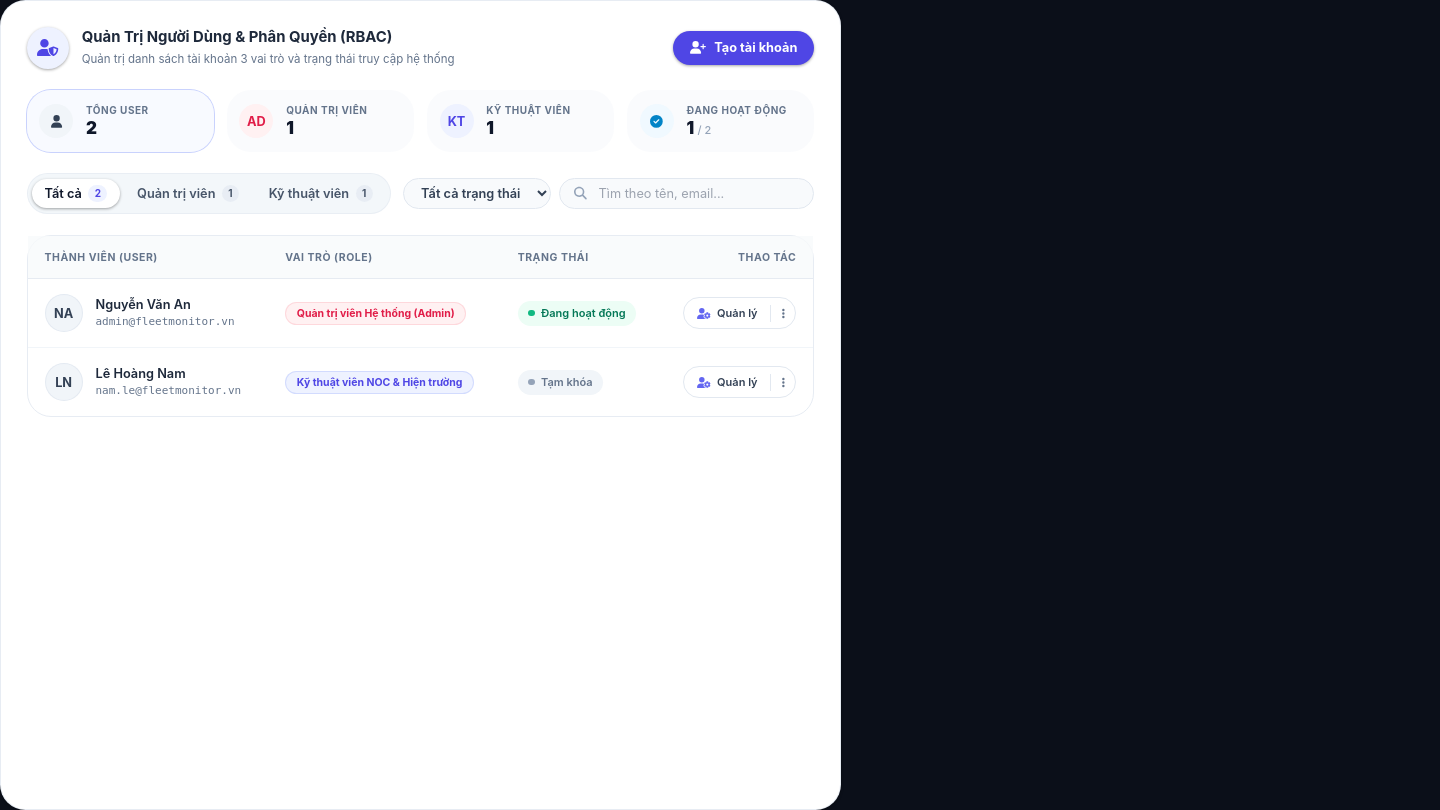
it: UserRbacManagerCard — Simplified RBAC Layout, Split Actions & Modals › opens UserManageModal via Quản lý with 2 tabs and no Refresh Token notice card
What coordinates should you click on to do the following:
click the button "Quản lý" in the row of "Nguyễn Văn An"
I would click on:
 (727, 313)
Its box is [684,298,770,328].
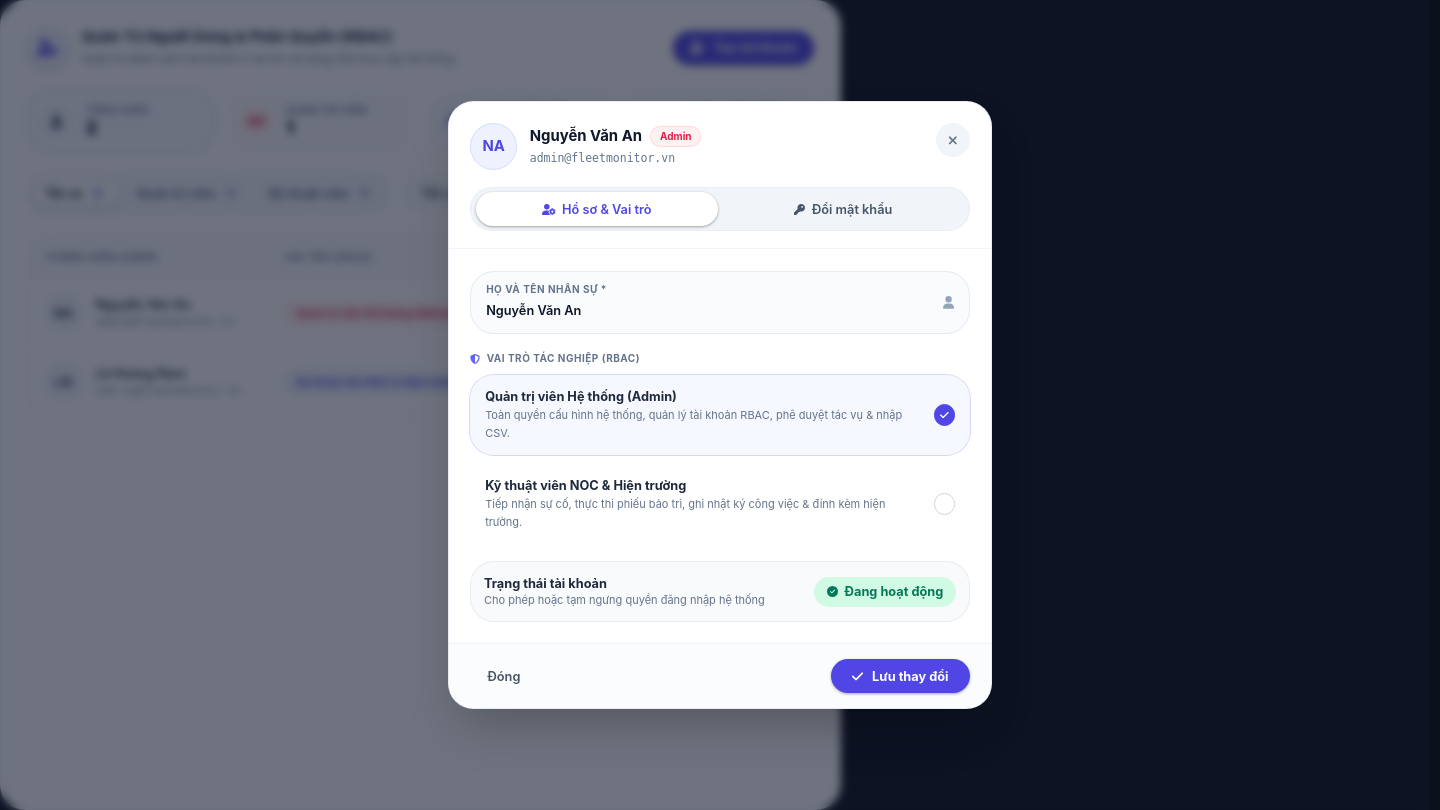
Check: the text "Hồ sơ & Vai trò" is shown, box [562,201,652,218]
Check: the text "Đổi mật khẩu" is shown, box [812,201,892,218]
What coordinates should you click on to do the following:
click the button "Đổi mật khẩu"
I would click on:
 (843, 209)
Its box is [722,192,964,226].
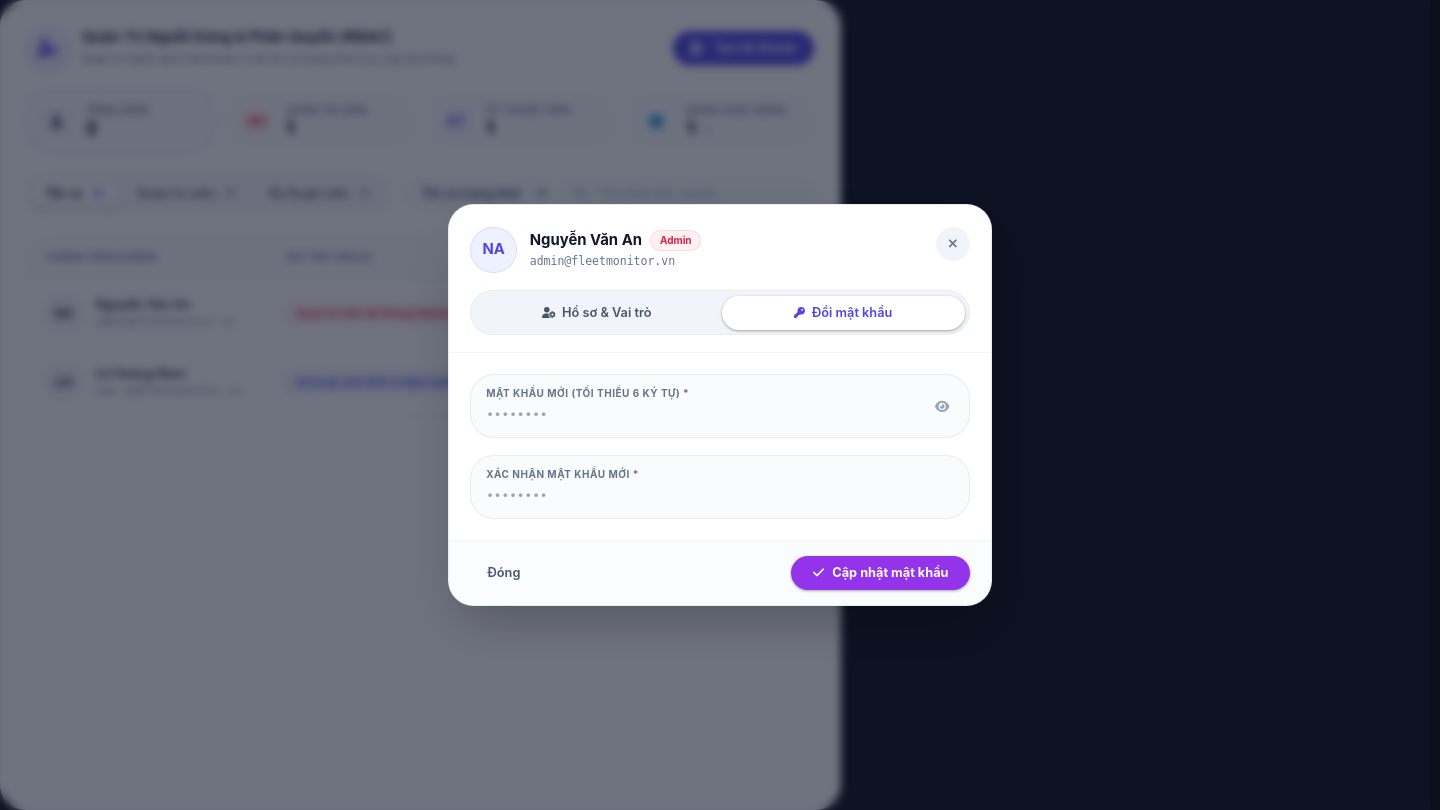
Check: the text "Mật khẩu mới (Tối thiểu 6 ký tự) *" is shown, box [486,387,689,399]
